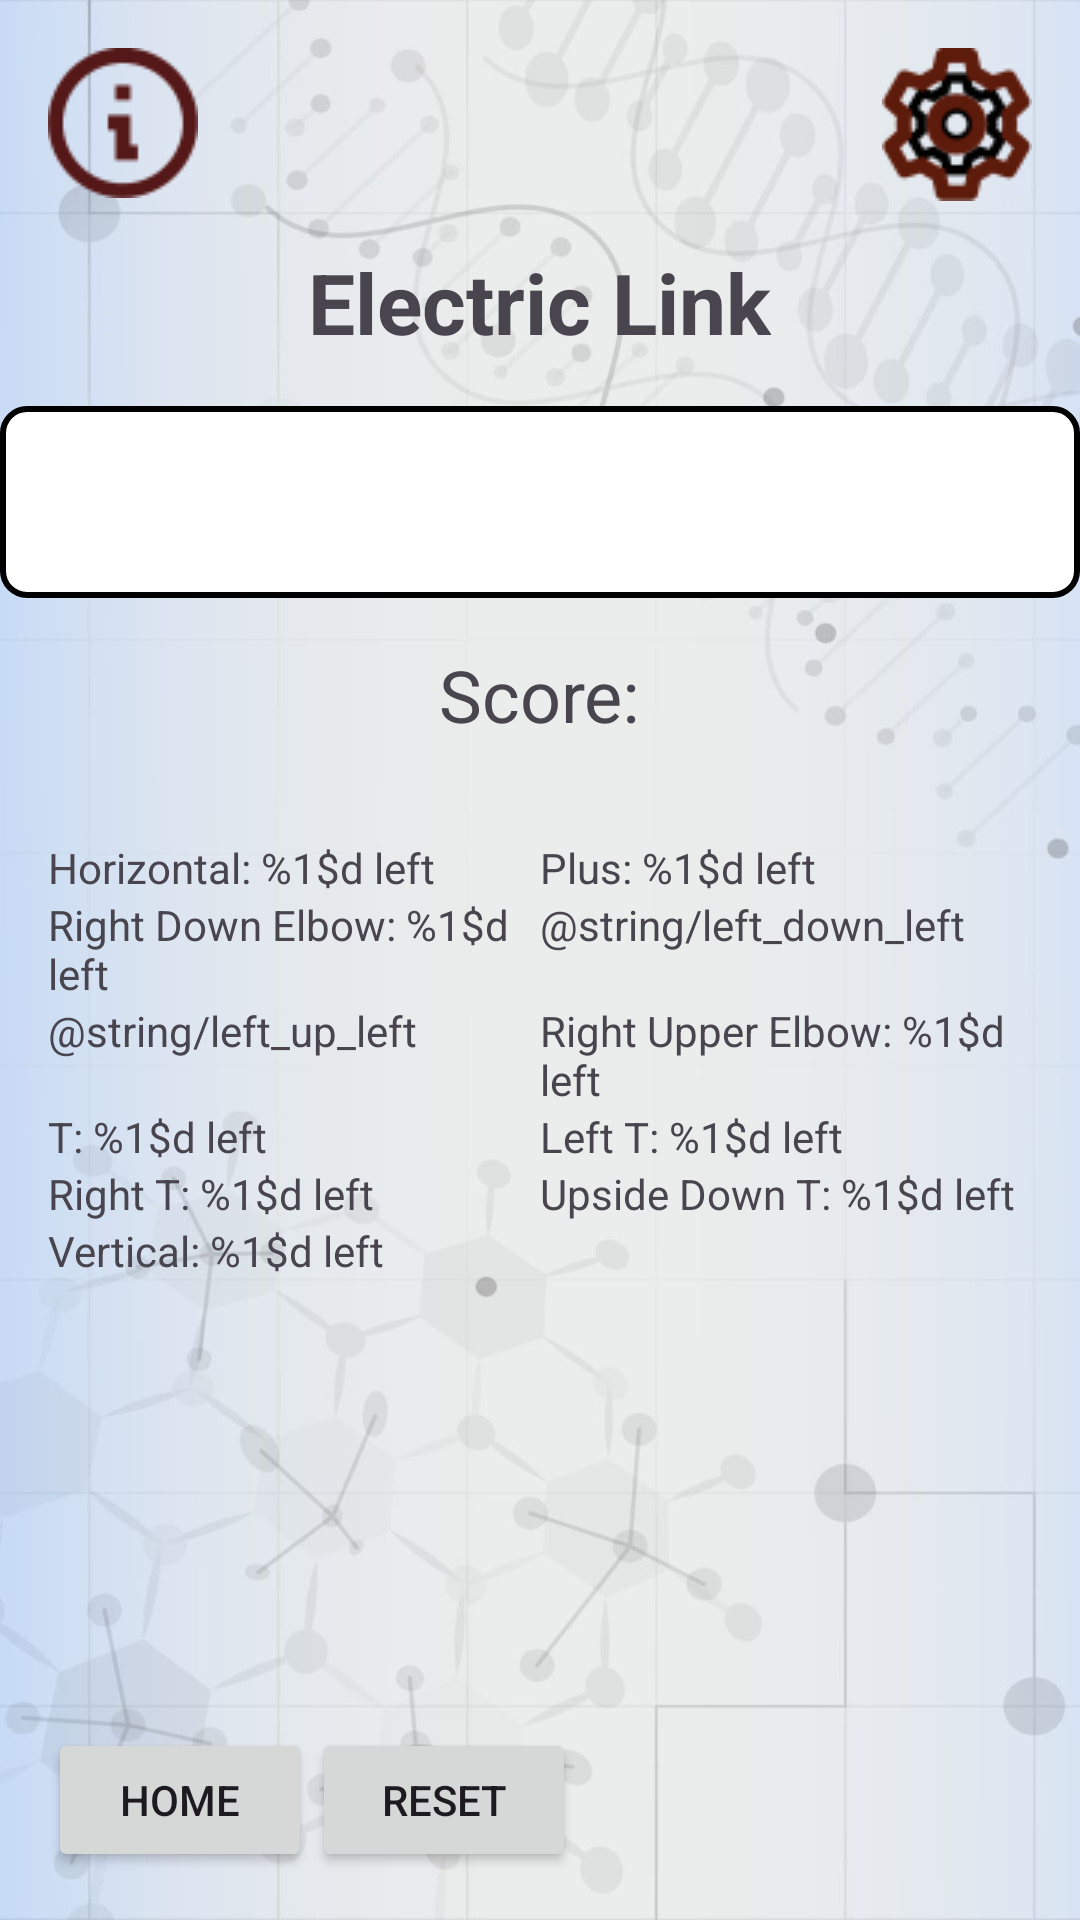

Screen size 1080*1920. Icon name, then its center in pixels as [x,y]:
info: [123,123]
settings: [957,124]
